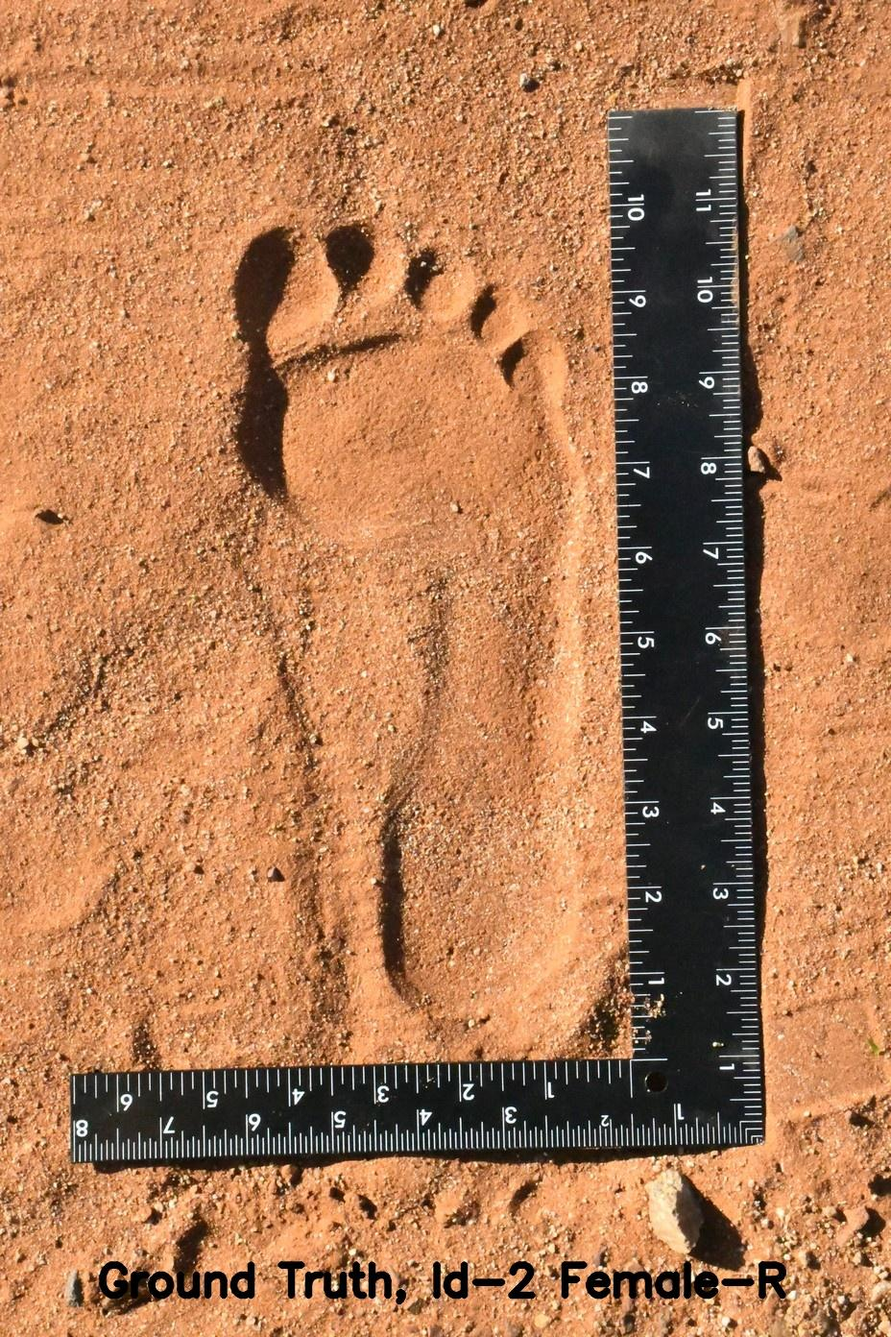human_footprint: (183, 167, 621, 1043)
